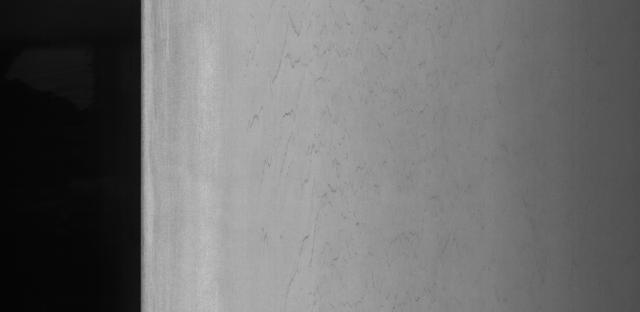silk_spot: (242, 0, 430, 292)
